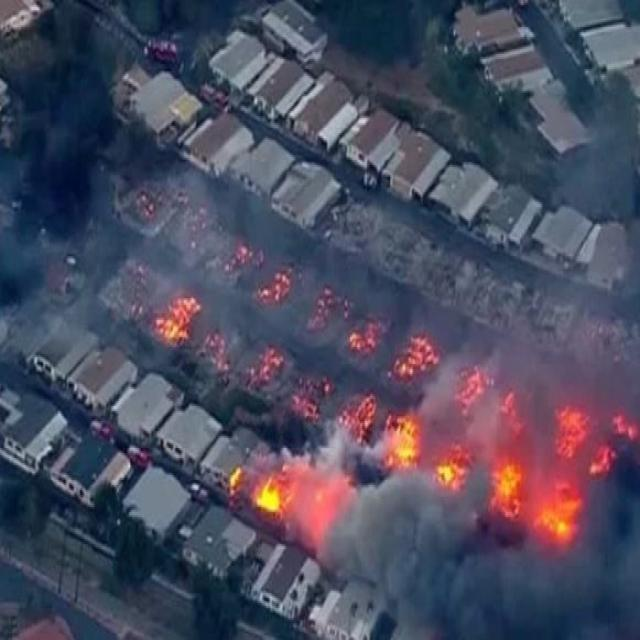Fire: (394, 327, 442, 396), (155, 293, 200, 349), (488, 458, 528, 520), (388, 412, 424, 476), (557, 403, 595, 462), (459, 358, 494, 422), (246, 476, 294, 520), (544, 490, 582, 545), (334, 396, 379, 442), (429, 448, 472, 496), (340, 319, 388, 362), (256, 264, 300, 308), (499, 388, 527, 444), (204, 328, 232, 379), (251, 344, 284, 386), (592, 443, 620, 482), (292, 391, 320, 426), (608, 412, 640, 440), (228, 466, 241, 504), (228, 246, 253, 257)
Smoke: (314, 476, 637, 640)
